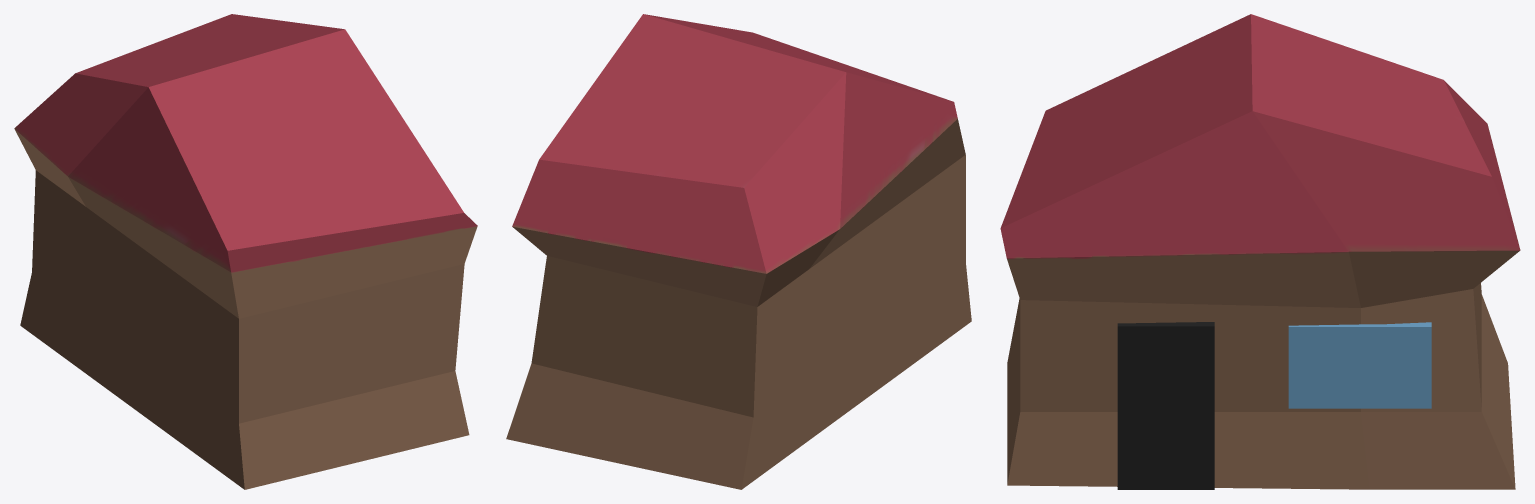
Rendered from casa_00.fbx.
3 renders of one model, left to right at view 1: azimuth 30°, elevation 25°; view 2: azimuth 150°, elevation 25°; view 3: azimuth 270°, elevation 25°, orthographic. The views are drawn at different scales.
Parts seen in each view (by area): view 1: Cube; view 2: Cube; view 3: Cube.
Part boxes in pixels (<box>): Cube: <box>14,14,477,489</box>; Cube: <box>506,14,971,489</box>; Cube: <box>1000,14,1520,489</box>.
Bounding box in the file's own units: 237 × 293 × 373.
Materials: 3 (1 with a texture image).
